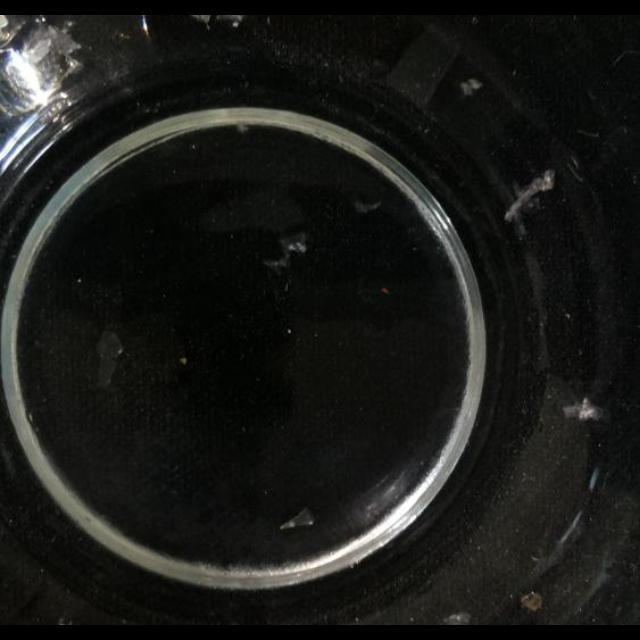Fibre: (505, 169, 555, 223), (262, 230, 308, 270), (94, 330, 124, 390), (562, 396, 604, 424), (278, 506, 316, 530), (460, 79, 482, 97), (444, 612, 472, 624), (236, 122, 250, 134)
microbeads: (282, 280, 290, 294), (380, 286, 390, 294)
